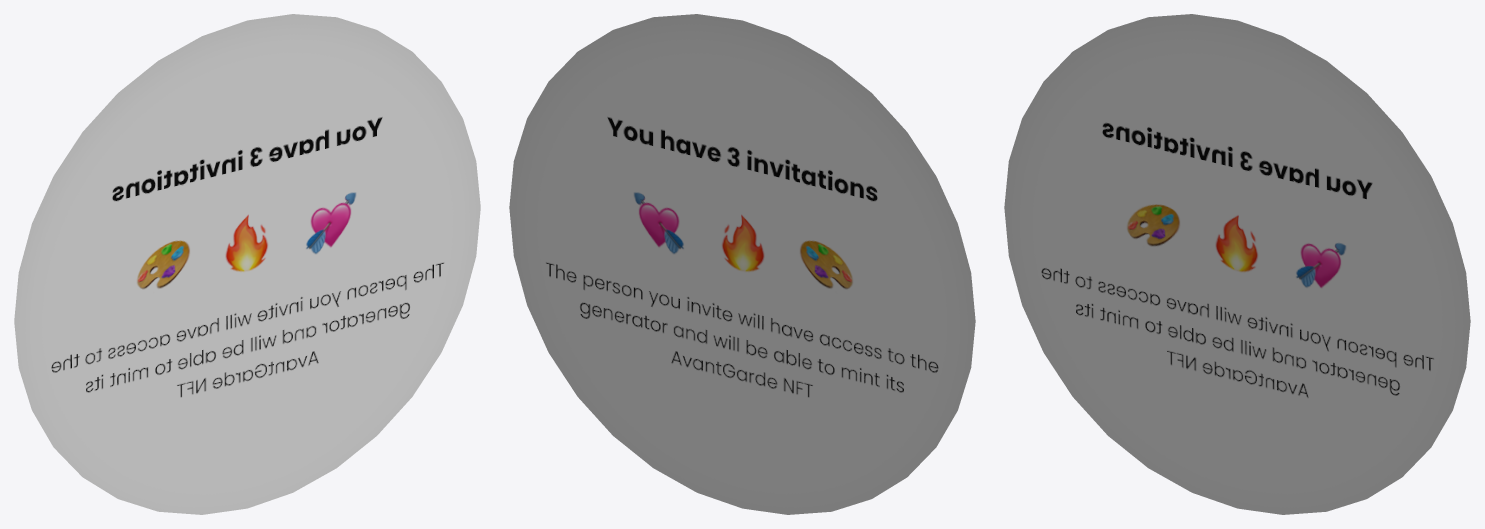
File: invitationTextureVIP.glb
3 renders of one model, left to right at view 1: azimuth 30°, elevation 25°; view 2: azimuth 150°, elevation 25°; view 3: azimuth 330°, elevation 25°, orthographic.
Parts seen in each view (by area): view 1: invitationTextureVIP; view 2: invitationTextureVIP; view 3: invitationTextureVIP.
Boxes of the visible parts, x1,y1,x2,y2 form: invitationTextureVIP: (14,14,480,514); invitationTextureVIP: (509,14,975,514); invitationTextureVIP: (1004,14,1470,514).
Size of the model in its own units: 3.52 by 3.52 by 0.00166.
Materials: 1 (1 with a texture image).
